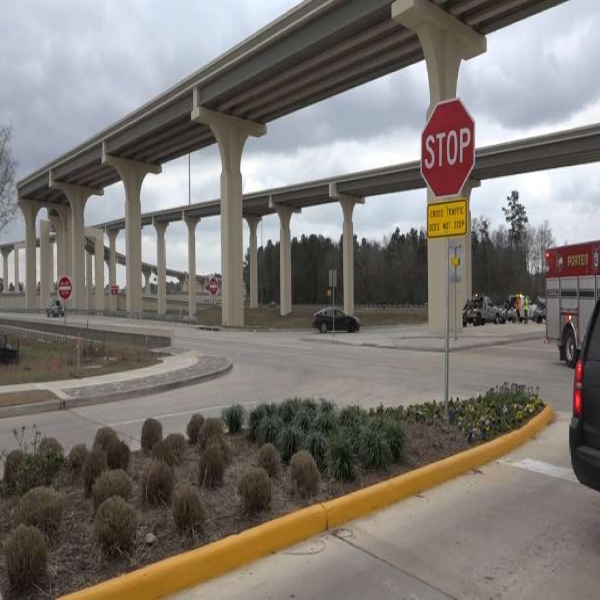stop: (416, 97, 482, 194)
